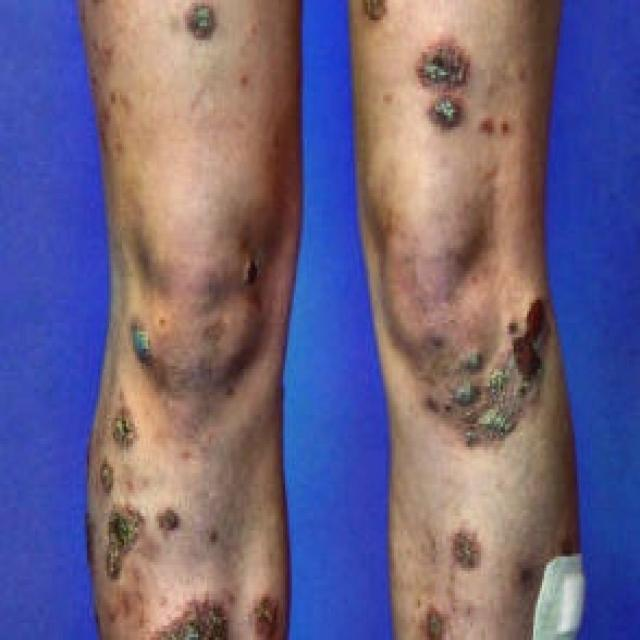Atopic-Dermatitis: (75, 13, 558, 632)
